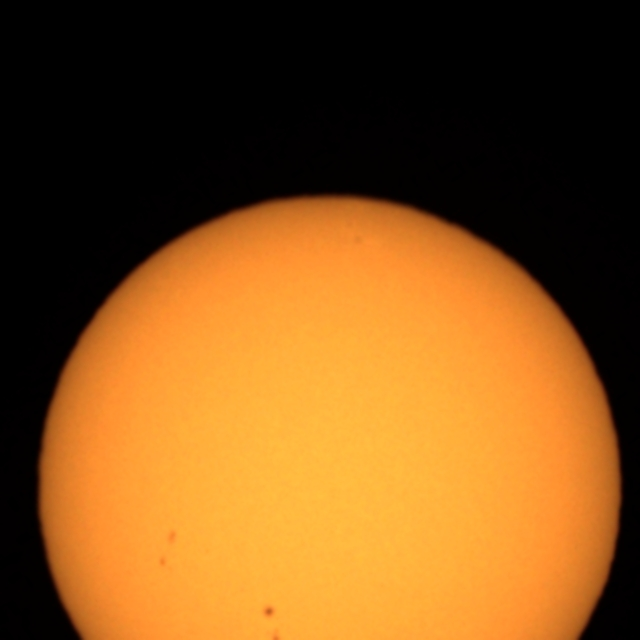sunspot: (155, 528, 180, 570), (163, 527, 181, 547), (260, 603, 278, 621), (156, 554, 170, 570)
